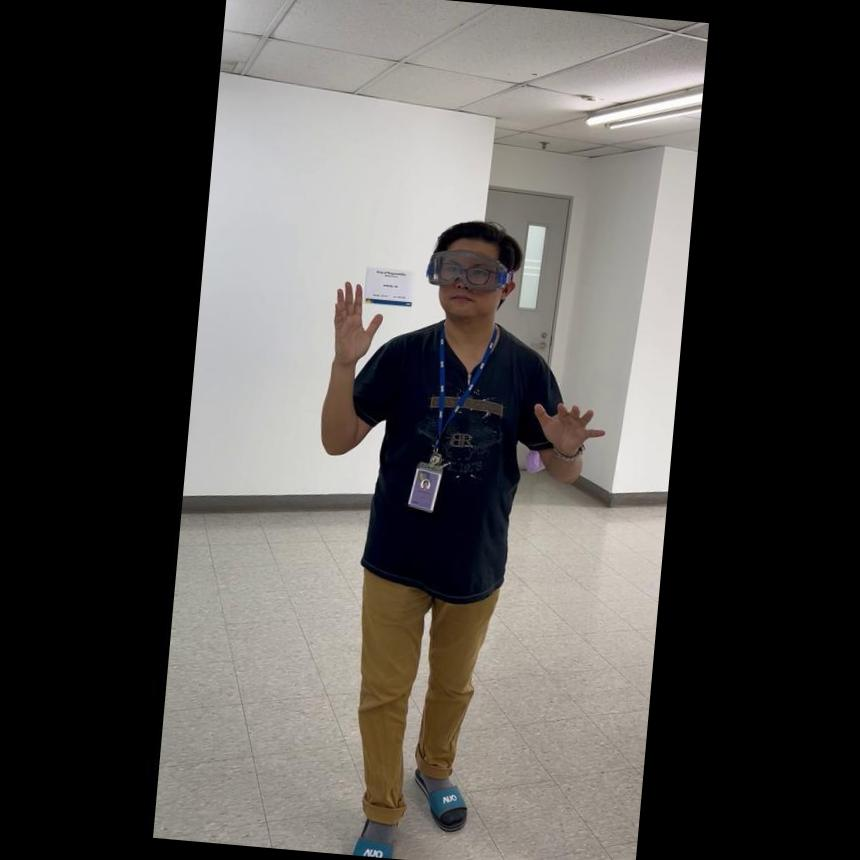No-gloves: (324, 271, 384, 366), (525, 392, 604, 458)
